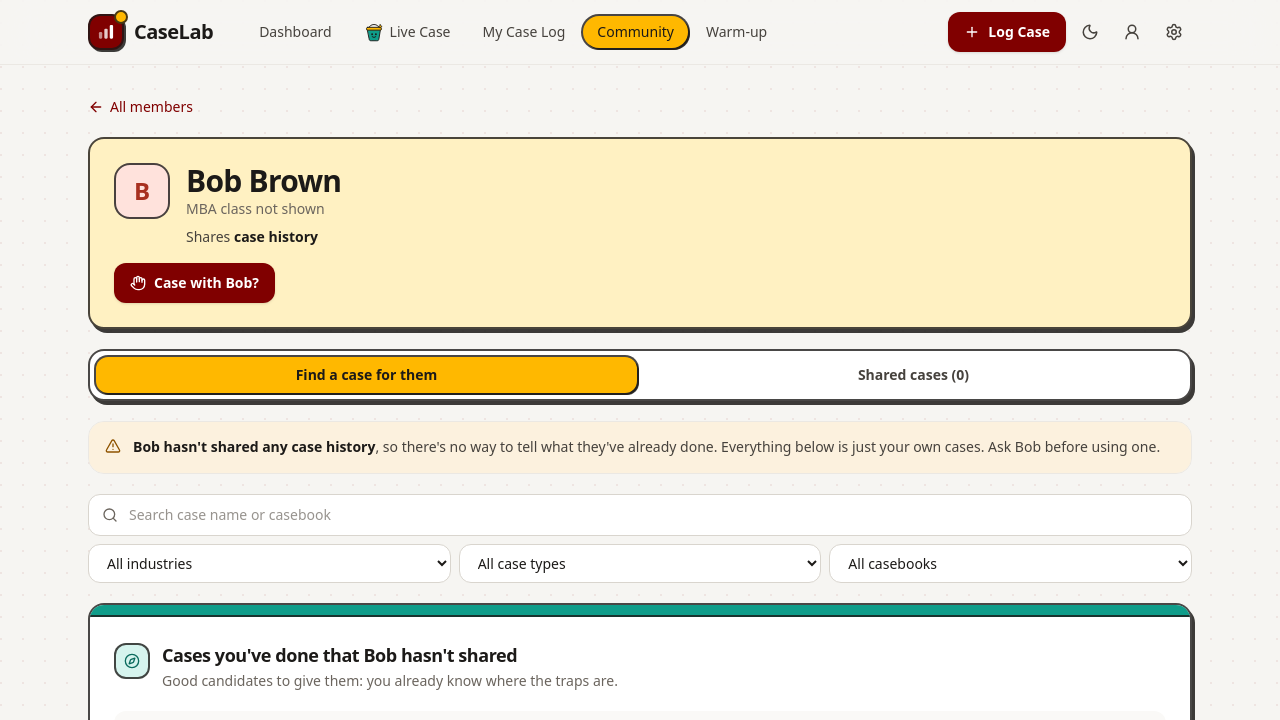
Test case: asking someone to case › sends a short request, then shows that it is waiting
Expected: the heading "Bob Brown" is shown, [186, 163, 341, 199]
Click the button "Case with Bob?" at (194, 283), box [114, 263, 275, 303]
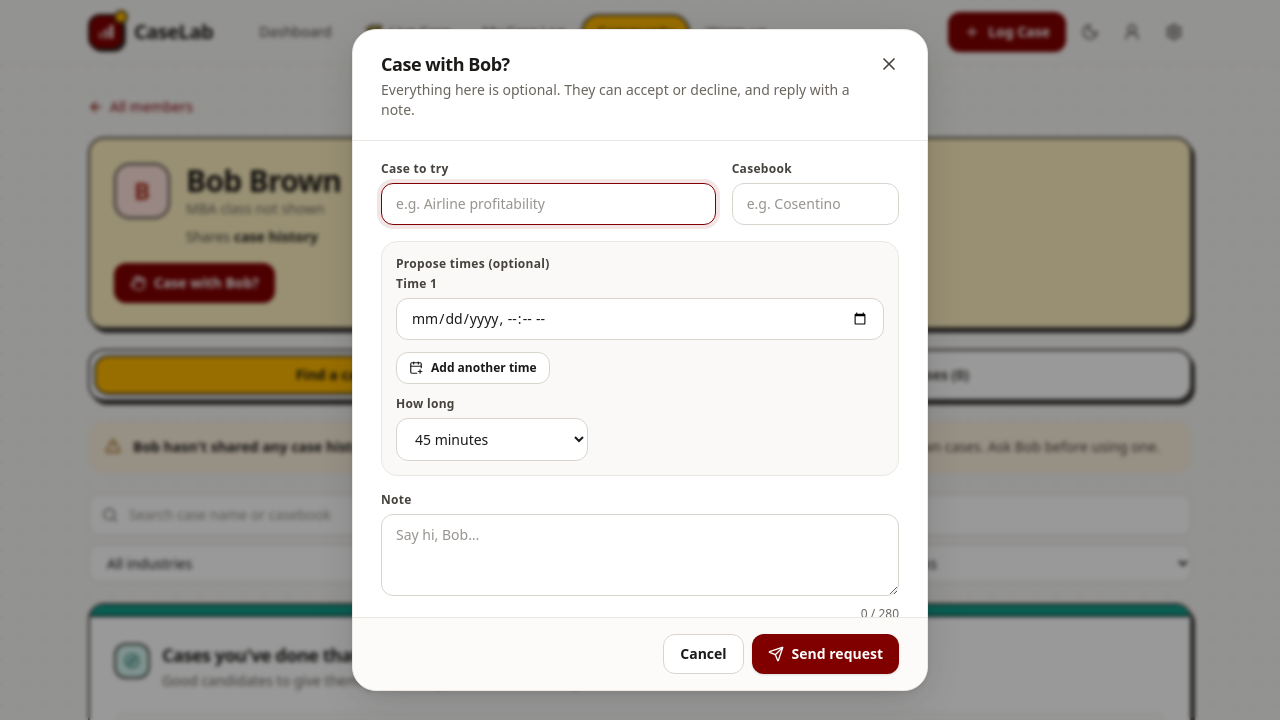
Type "Airline profit" into the field labelled "Case to try" at (548, 204), box [381, 183, 716, 225]
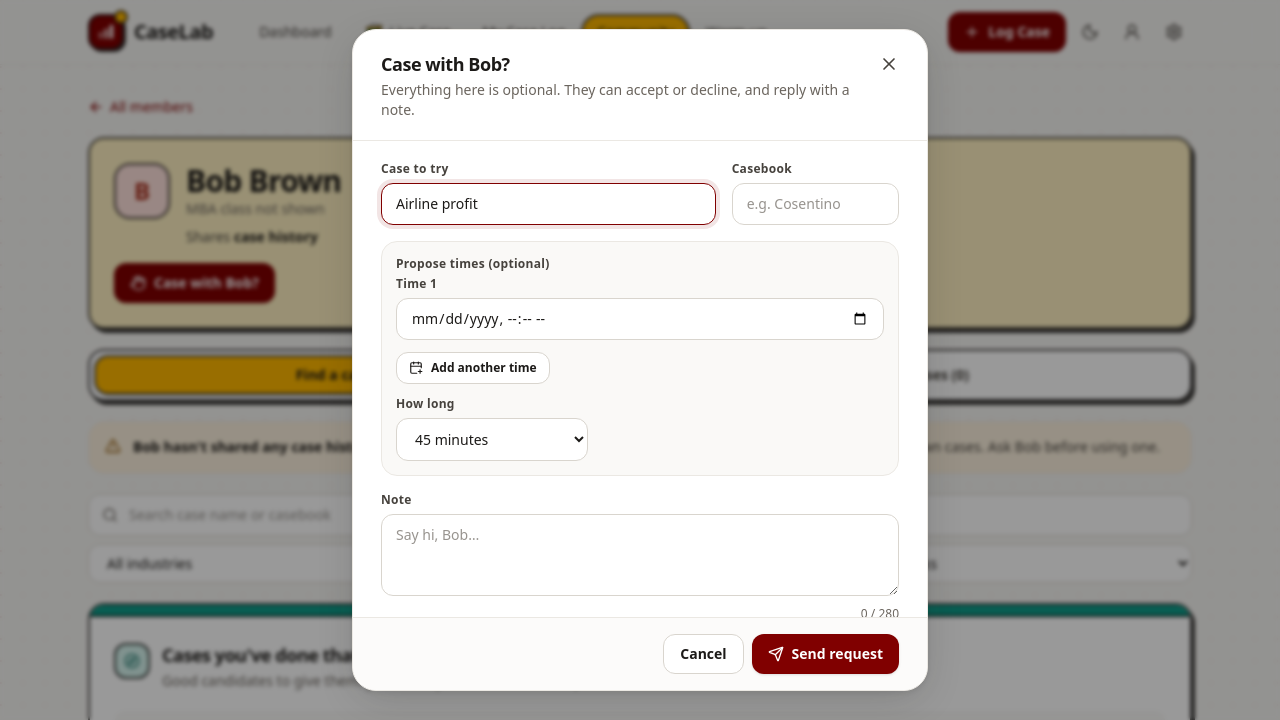
Type "Cosentino" into the field labelled "Casebook" at (815, 204), box [732, 183, 899, 225]
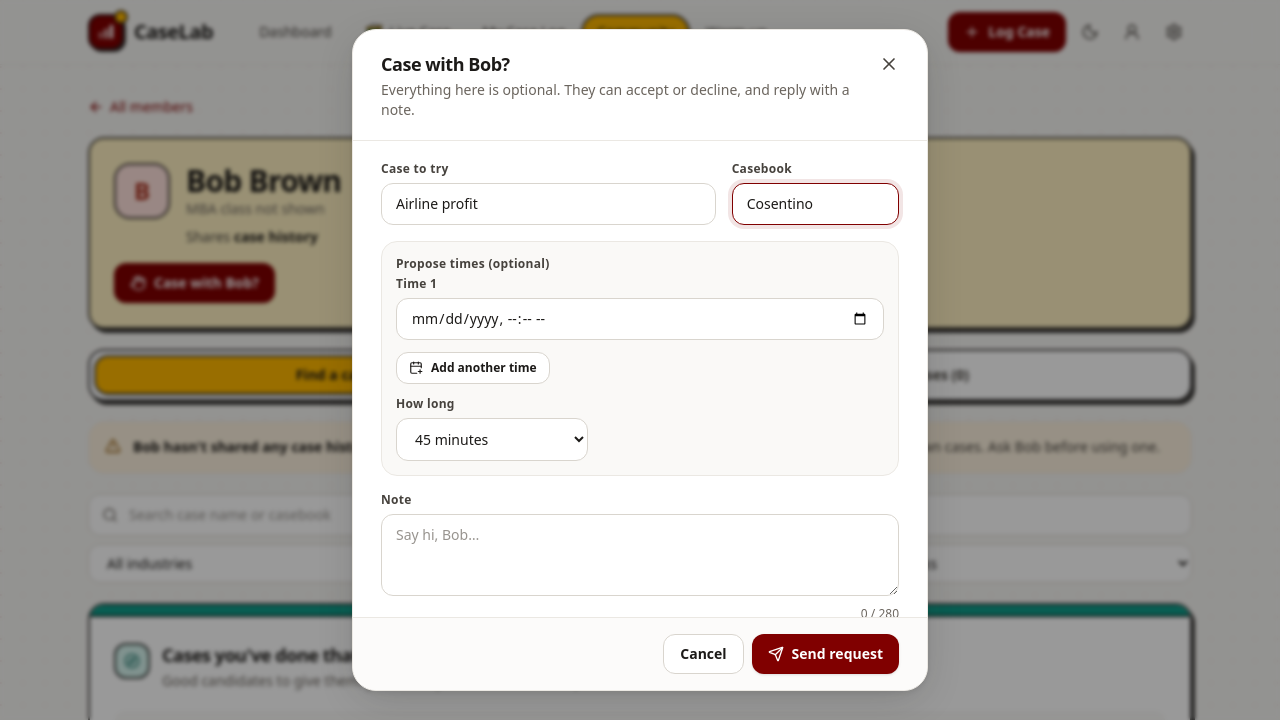
Type "Up for it?" into the text box labelled "Note" at (640, 555), box [381, 514, 899, 596]
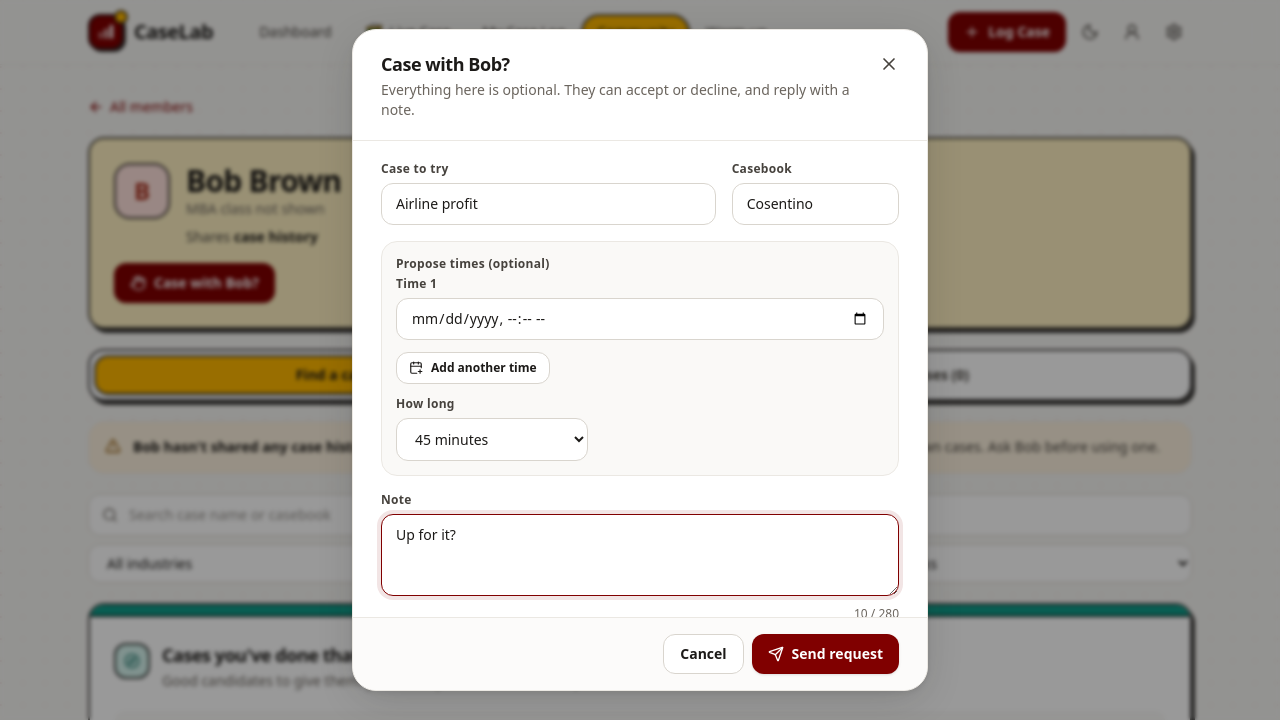
Click the button "Send request" at (825, 654), box [752, 634, 899, 674]
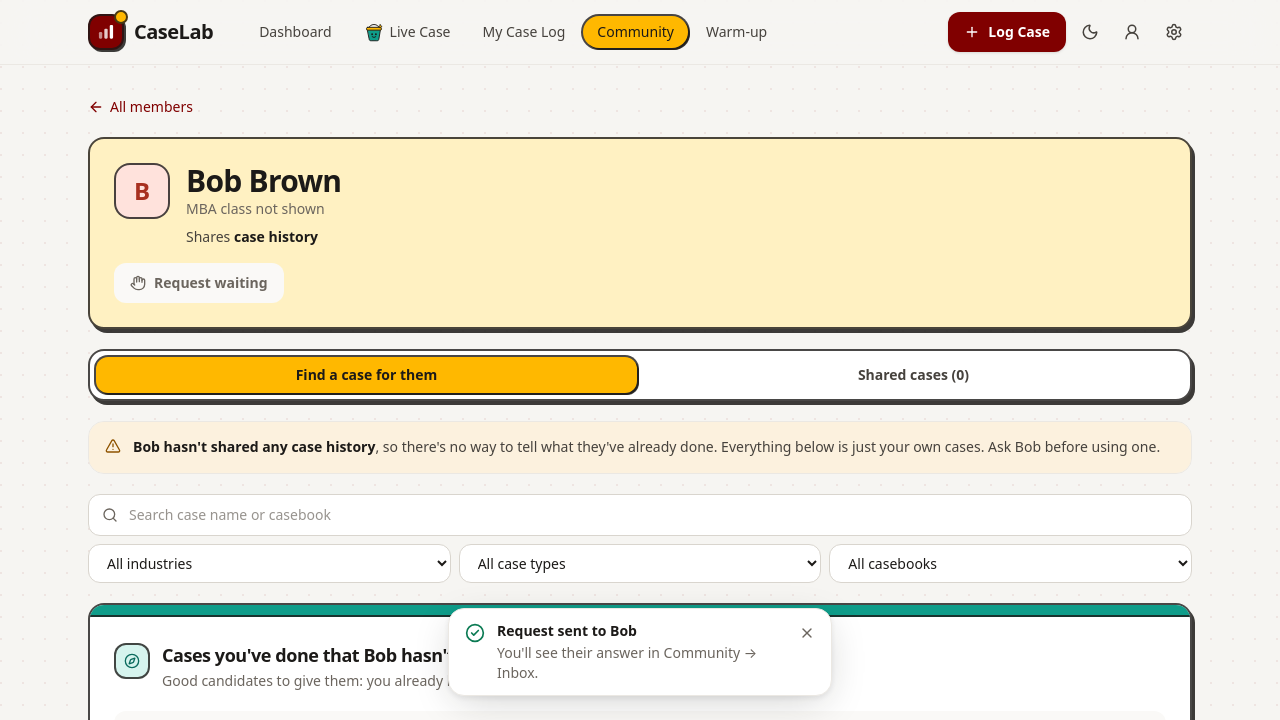
Expected: the text "Request sent to Bob" is shown, [497, 621, 637, 640]
Expected: the dialog is gone
Expected: the button "Request waiting" is disabled, [114, 263, 284, 303]
